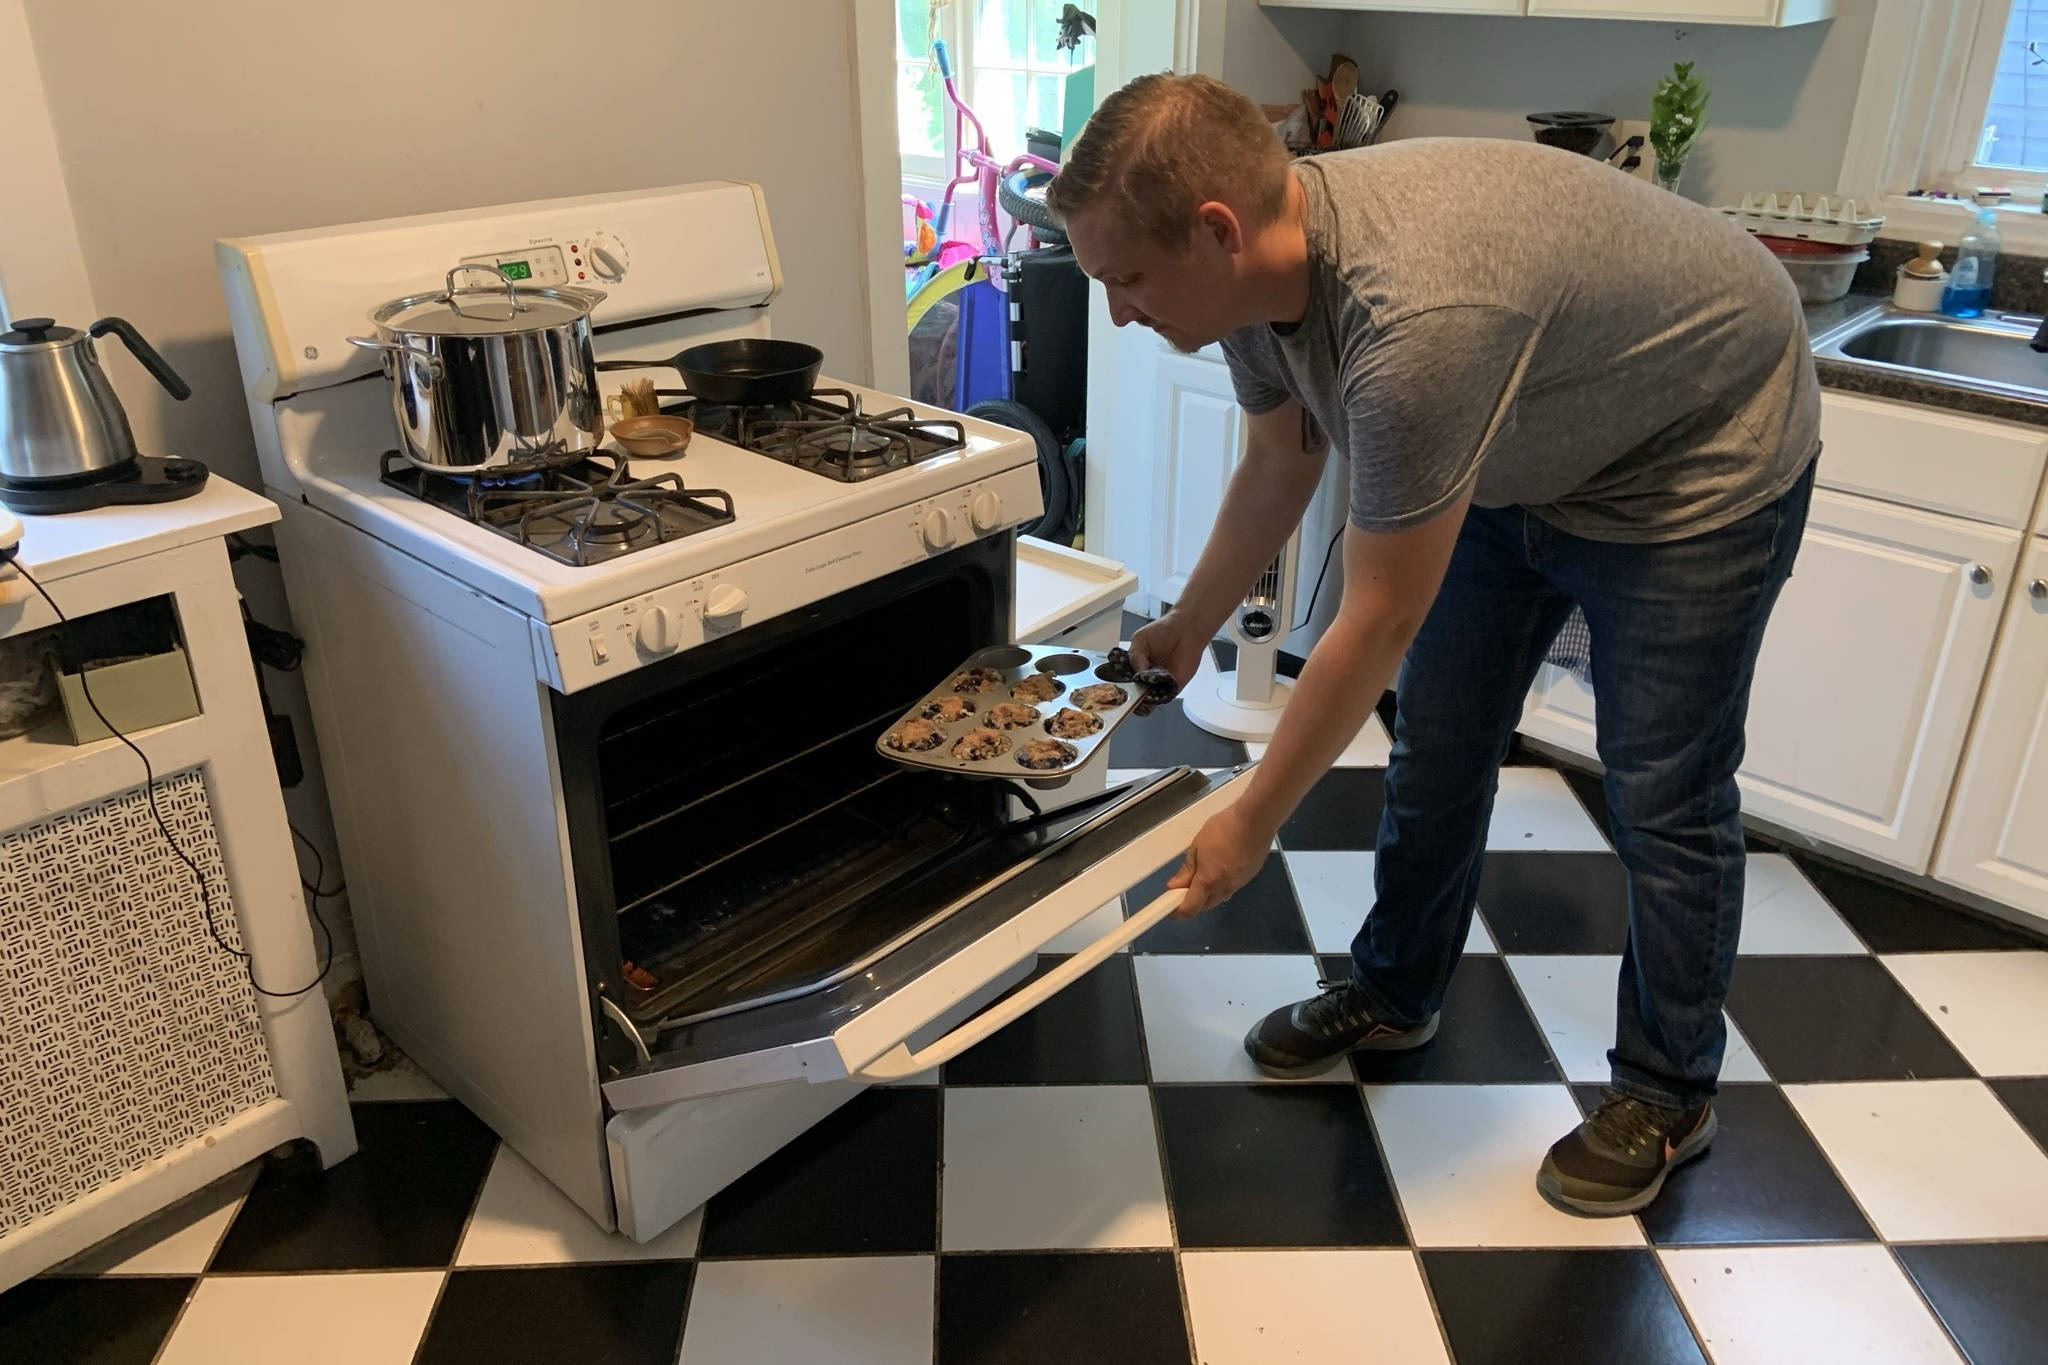stove: (225, 209, 1162, 1152)
